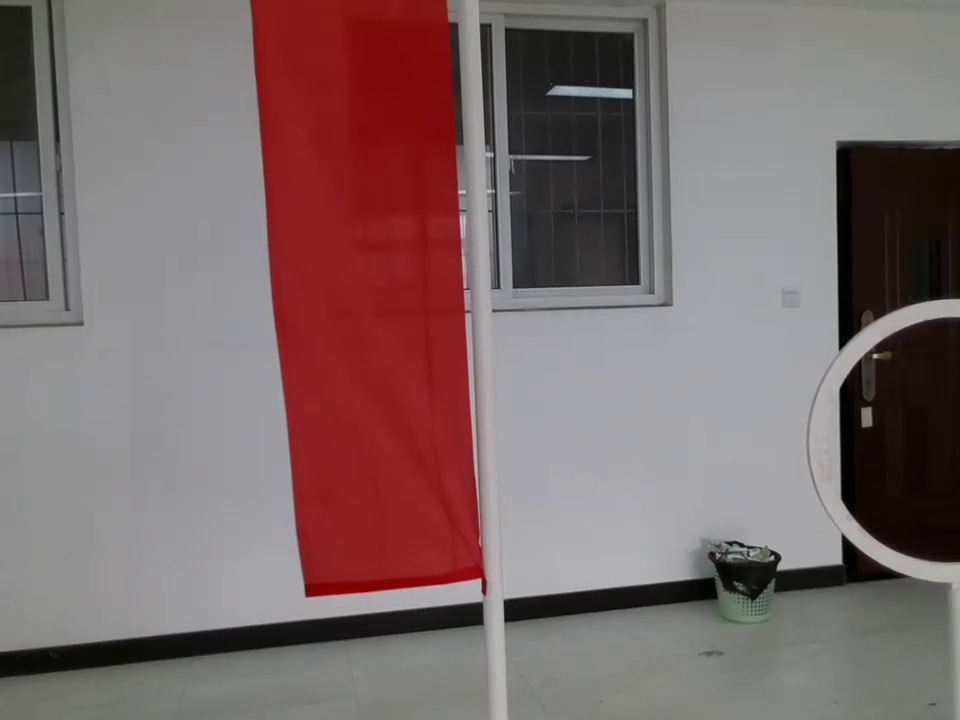qi: (235, 1, 505, 611)
quan: (799, 280, 960, 590)
